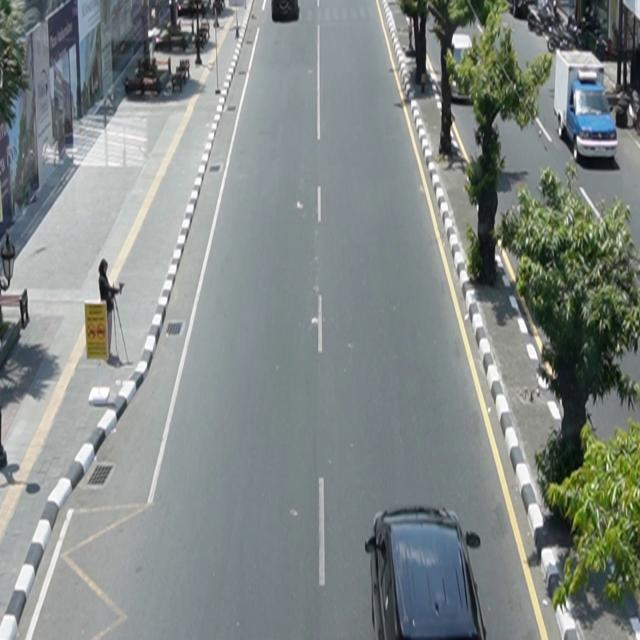car: (366, 506, 488, 640), (450, 34, 477, 104), (126, 64, 161, 96)
truck: (554, 49, 619, 162)
